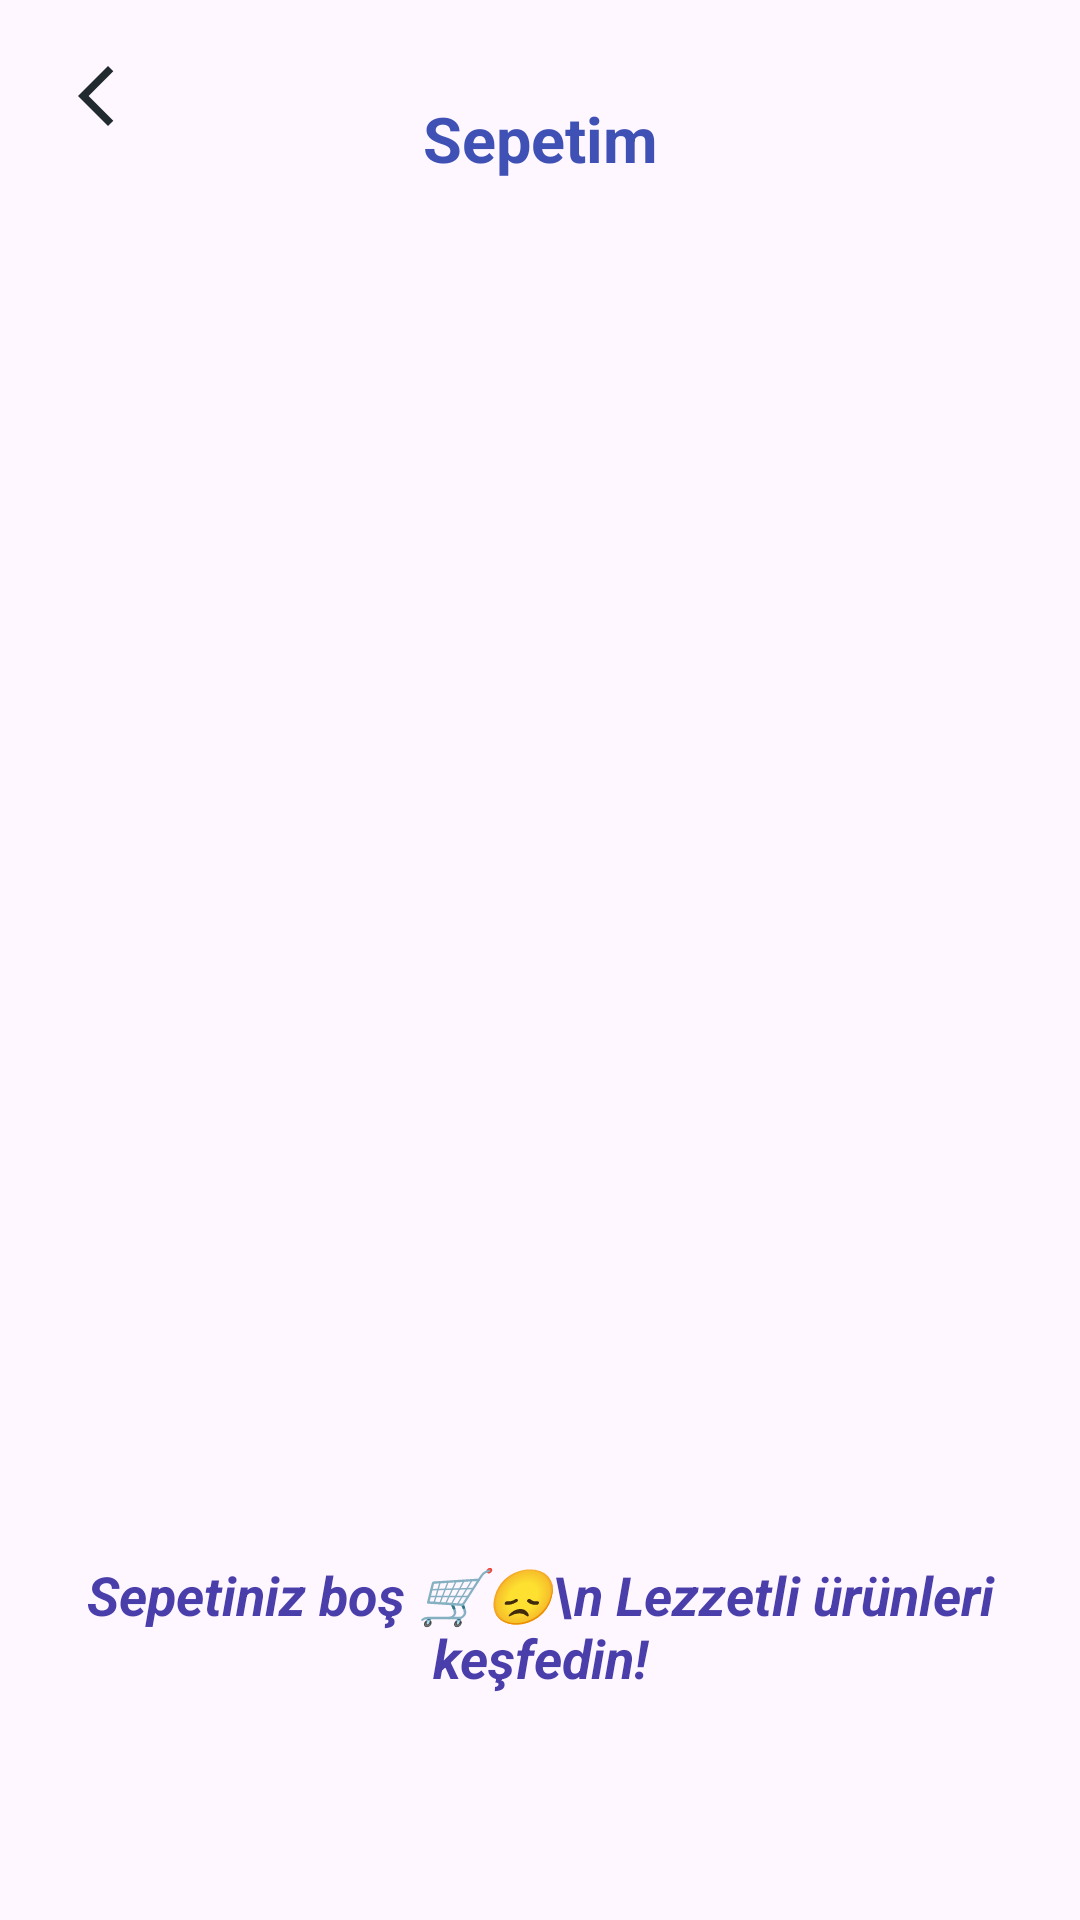

Named icons in this screenshot (1080px x 1920px) and their bounding boxes, (x1, y1, x2, y2):
Geri: (78, 66, 113, 126)
